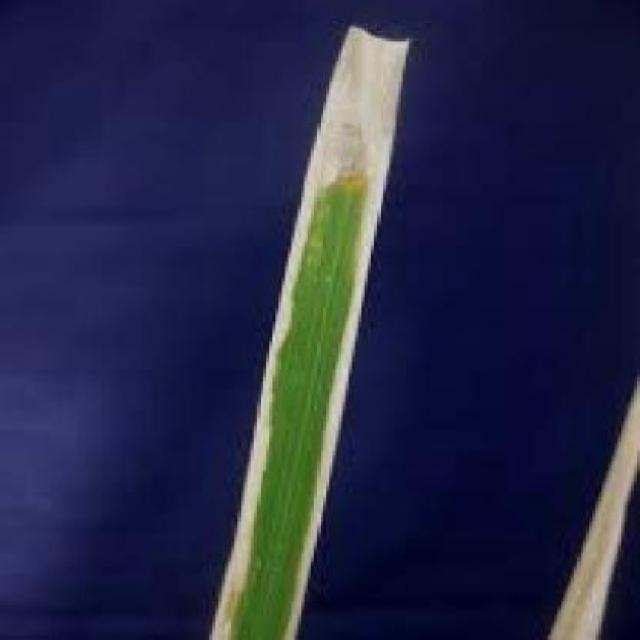Brown_Spot: (146, 1, 413, 640)
